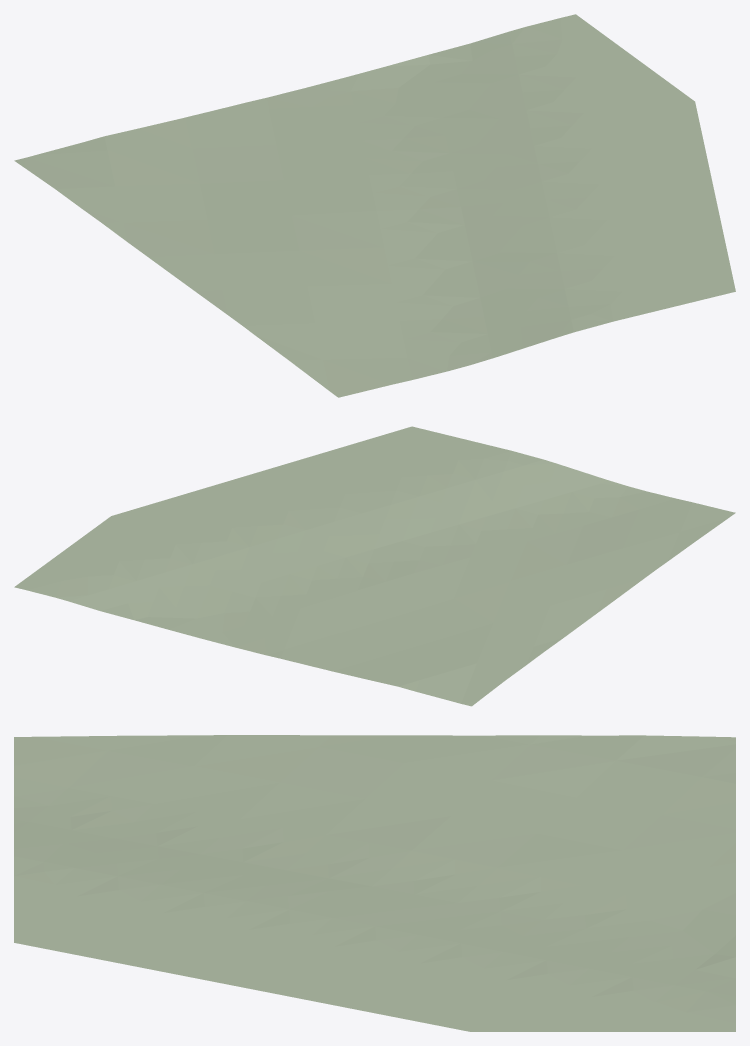
File: SM_MPRR_Terrain_4_1.fbx
3 renders of one model, top to bottom at view 1: azimuth 30°, elevation 25°; view 2: azimuth 150°, elevation 25°; view 3: azimuth 270°, elevation 25°, orthographic. The views are drawn at different scales.
Visible parts, largest first — view 1: SM_MPRR_Terrain_4_1; view 2: SM_MPRR_Terrain_4_1; view 3: SM_MPRR_Terrain_4_1.
Boxes of the visible parts, <box> form: SM_MPRR_Terrain_4_1: <box>14,14,735,397</box>; SM_MPRR_Terrain_4_1: <box>14,426,735,706</box>; SM_MPRR_Terrain_4_1: <box>14,735,735,1031</box>.
Size of the model in its own units: 15000 by 15000 by 244.
